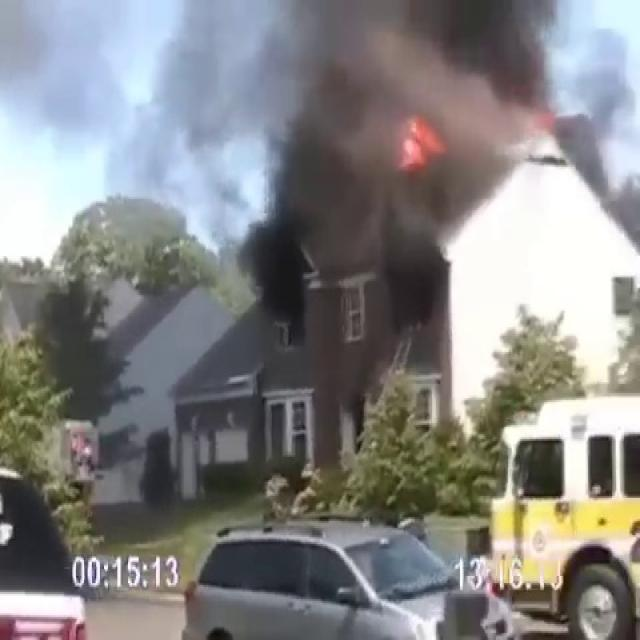Smoke: (180, 0, 640, 260)
